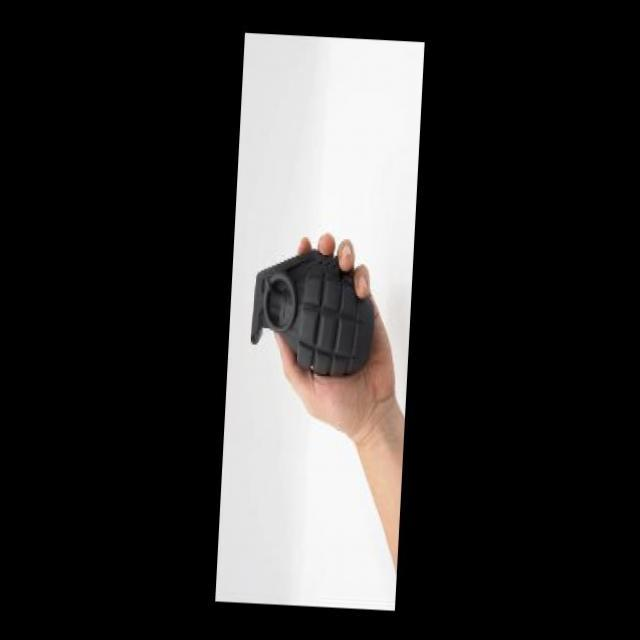grenade: (242, 250, 386, 387)
